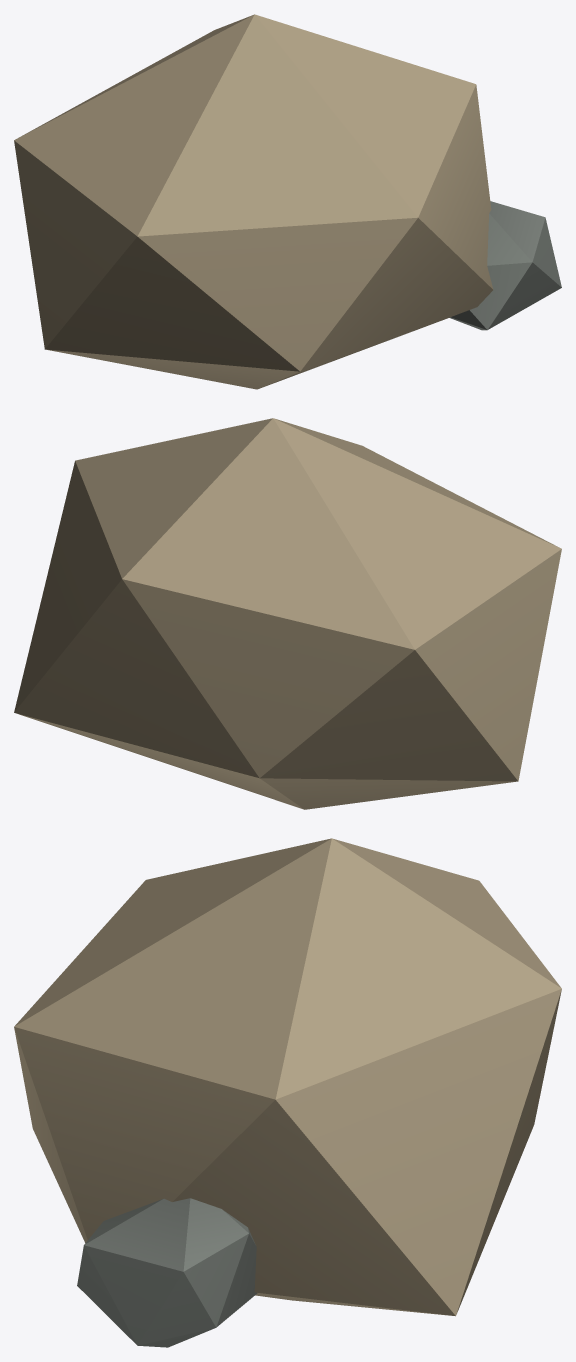
Rendered from rock.glb.
3 renders of one model, top to bottom at view 1: azimuth 30°, elevation 25°; view 2: azimuth 150°, elevation 25°; view 3: azimuth 270°, elevation 25°, orthographic. The views are drawn at different scales.
Parts seen in each view (by area): view 1: rock.001; view 2: rock.001; view 3: rock.001.
Part boxes in pixels (bbox=[...]): rock.001: bbox=[14, 14, 561, 389]; rock.001: bbox=[14, 418, 561, 809]; rock.001: bbox=[14, 838, 561, 1347].
Size of the model in its own units: 1.11 by 0.8512 by 0.8988.
